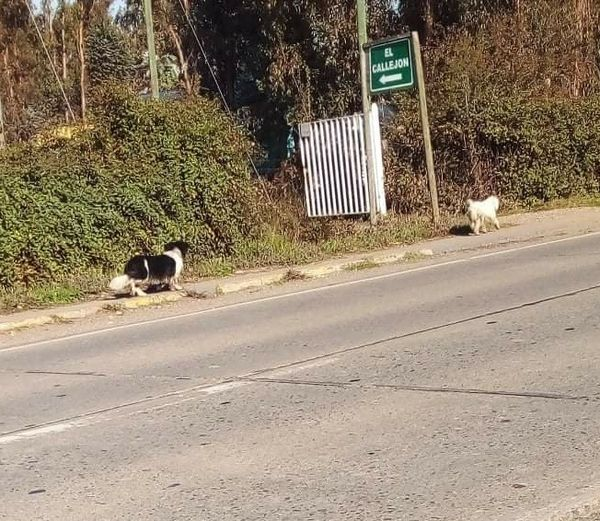dog: (104, 234, 195, 297), (456, 192, 508, 239)
